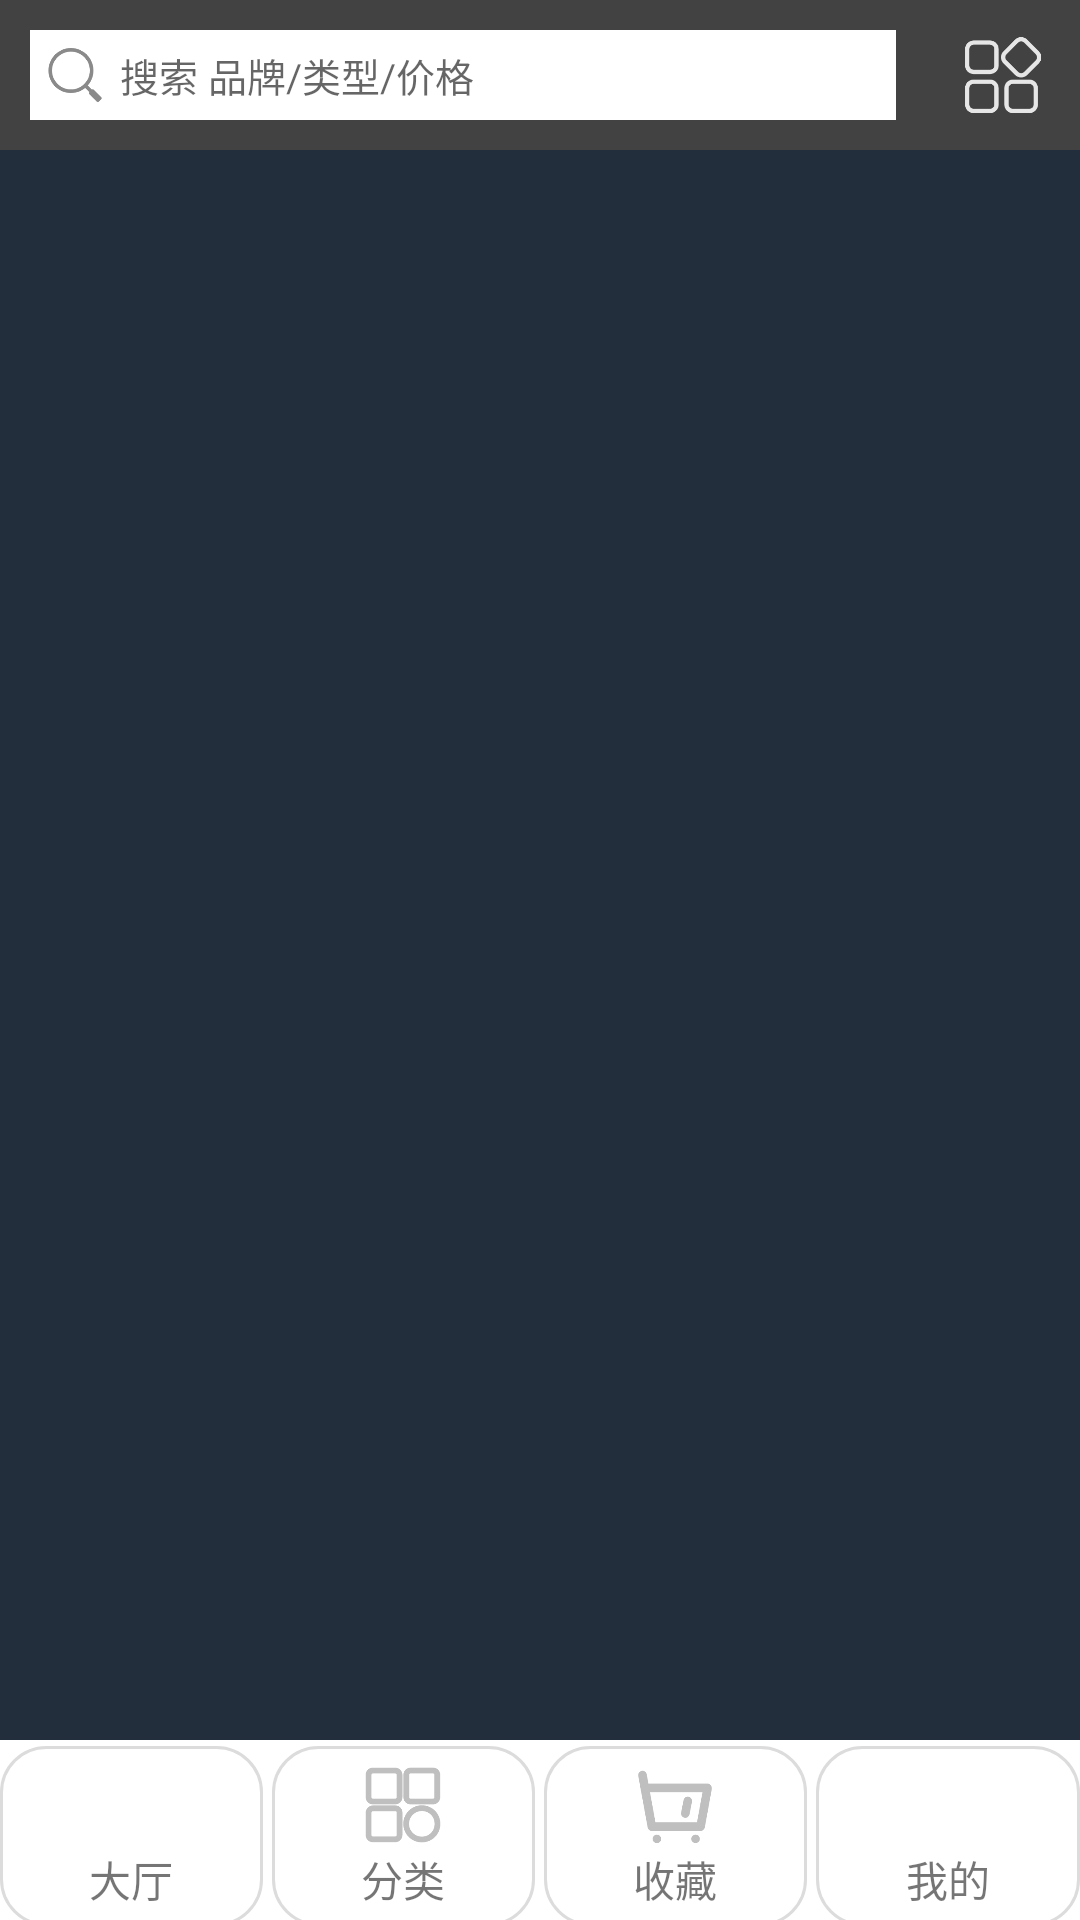

Icon click points for this 1080 × 1920 phone screenshot, format (x,y):
menu: (1003,75)
